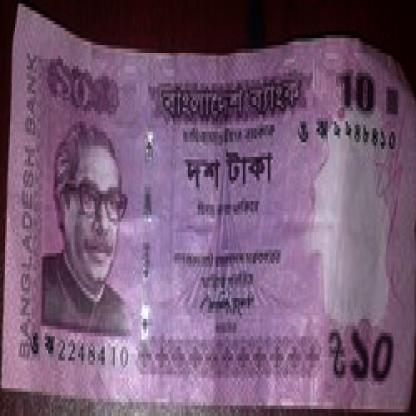Ten Taka: (346, 323, 399, 396), (335, 62, 381, 122), (55, 59, 96, 111)
